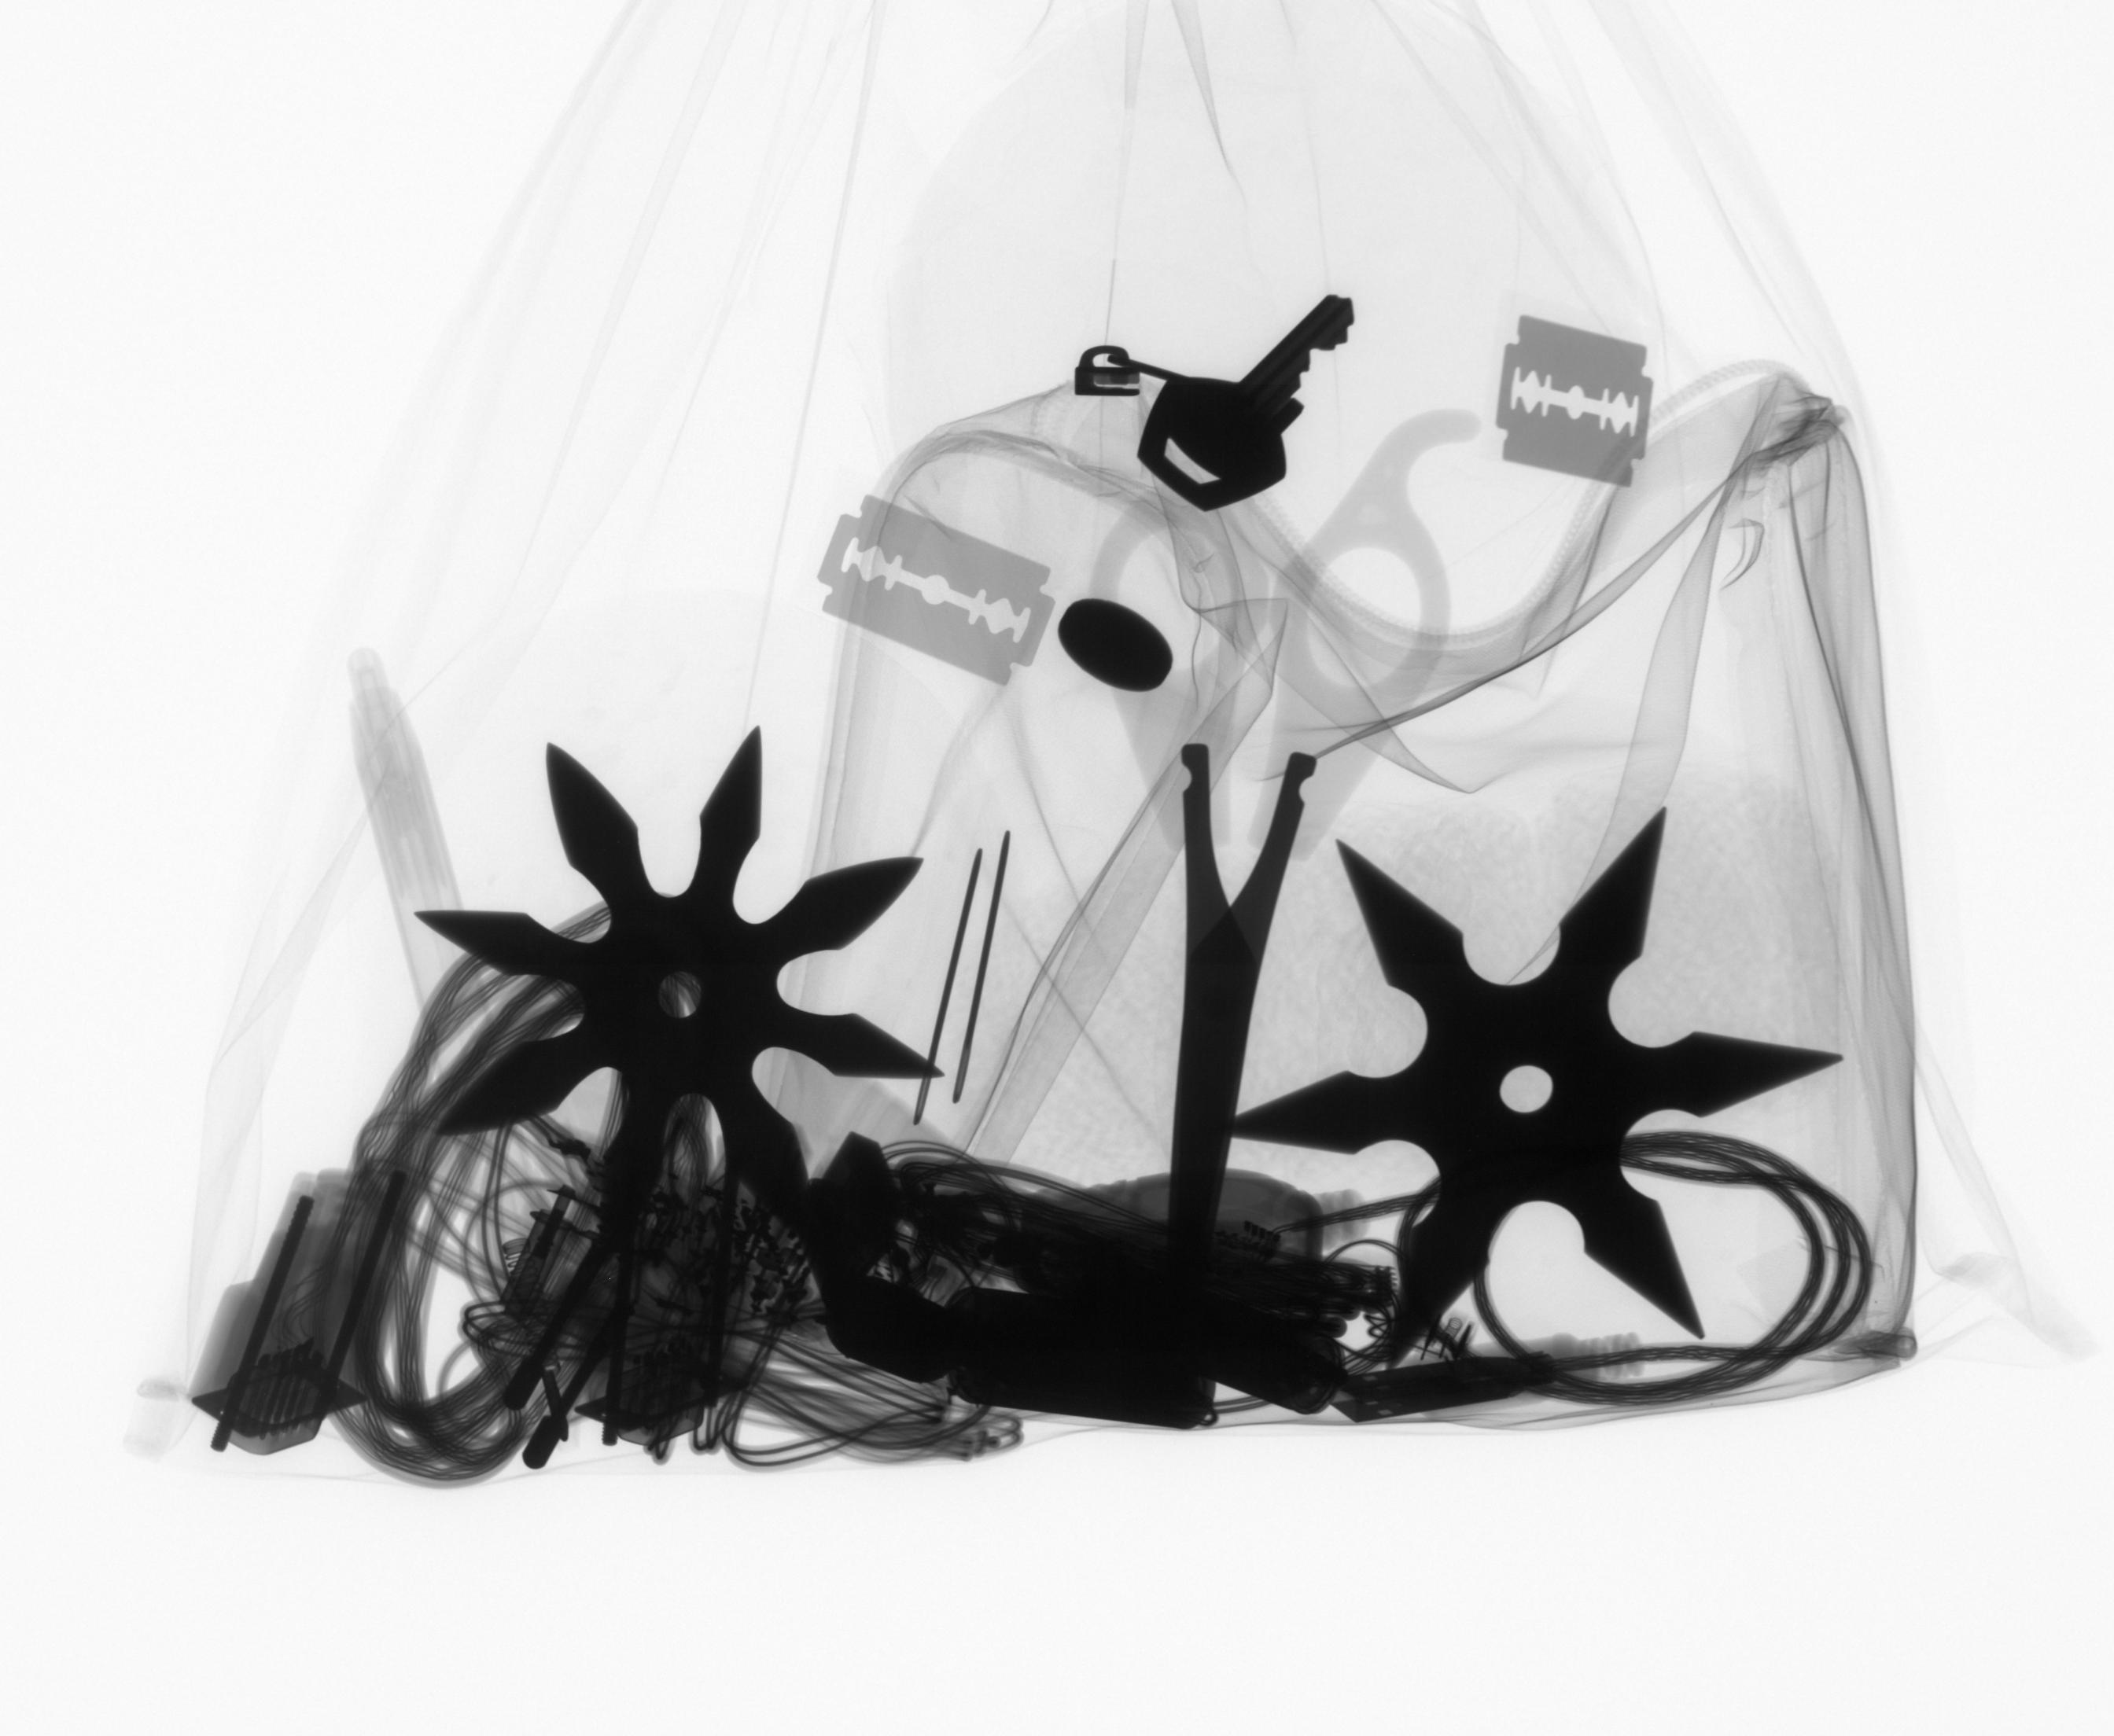RazorBlade: (804, 484, 1062, 702), (1475, 300, 1672, 507)
Shuriken: (1204, 800, 1865, 1381), (388, 713, 952, 1287)
